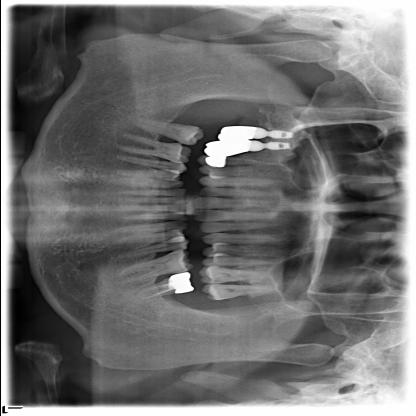Bicon: (268, 128, 297, 140), (266, 140, 294, 152)
